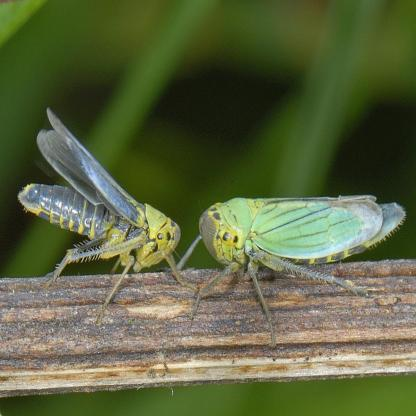Green-Leafhopper: (16, 106, 192, 295), (184, 186, 410, 328)
